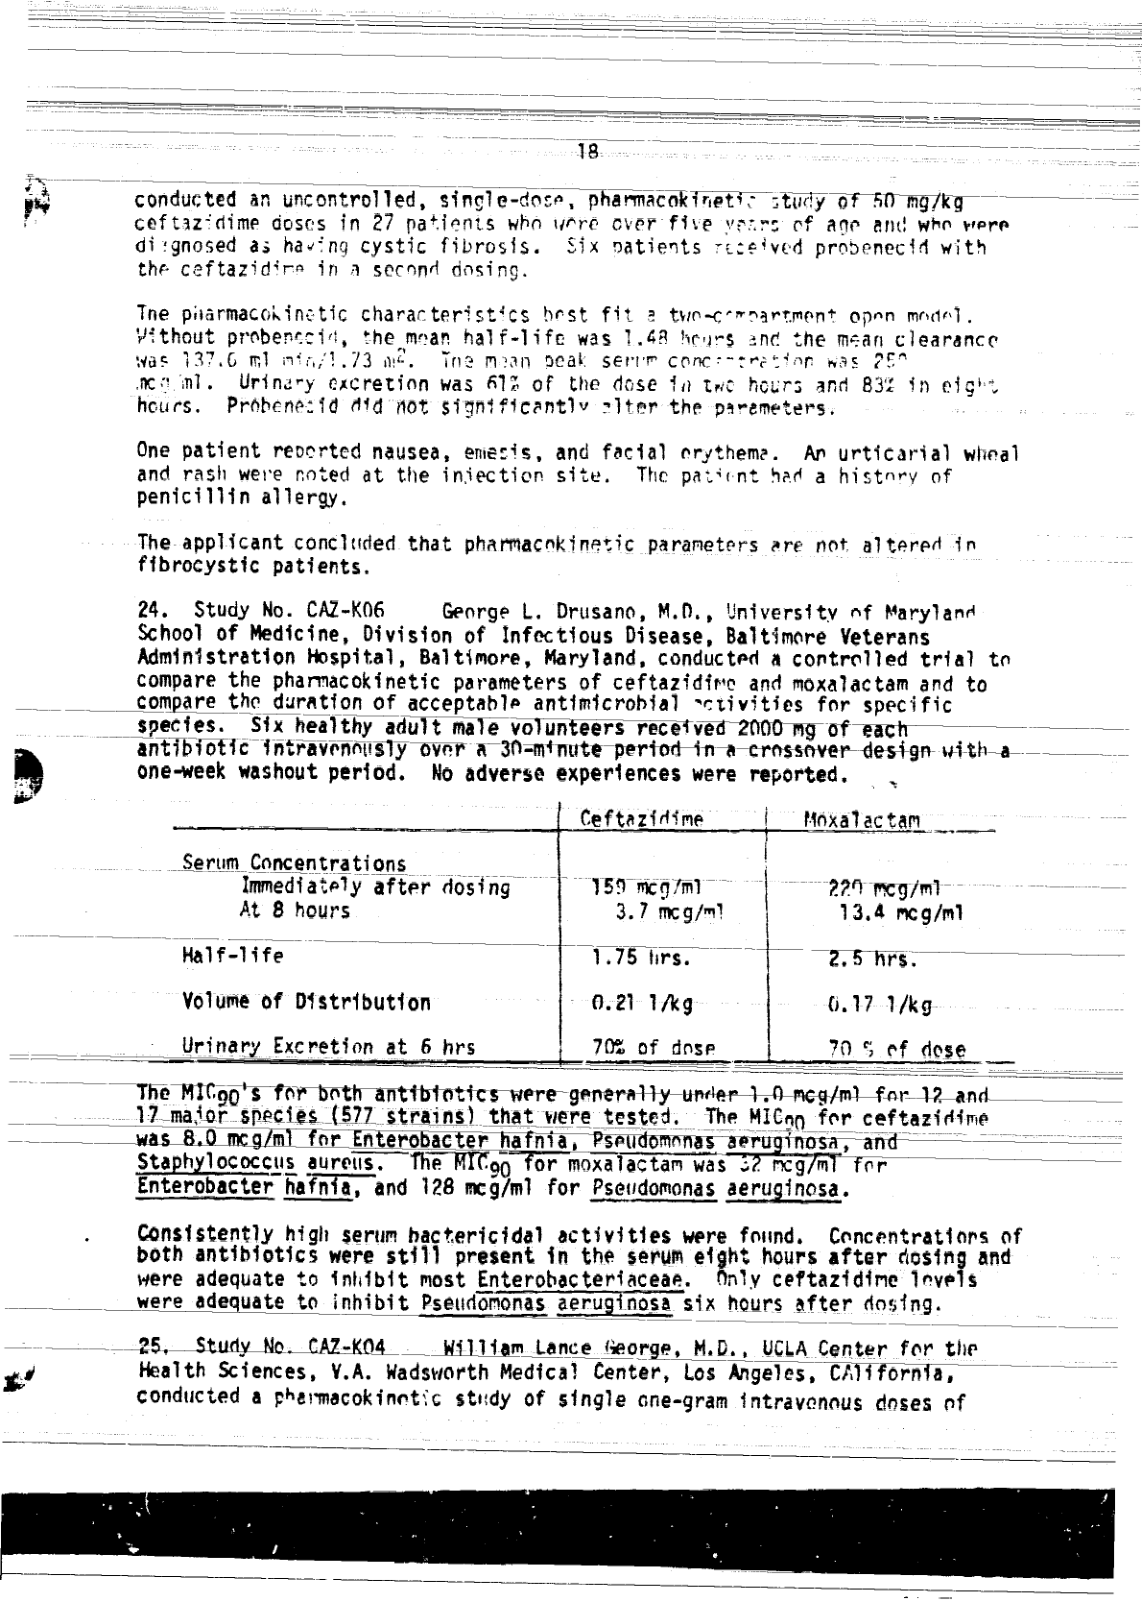partial_lined: (148, 802, 1013, 1066)
